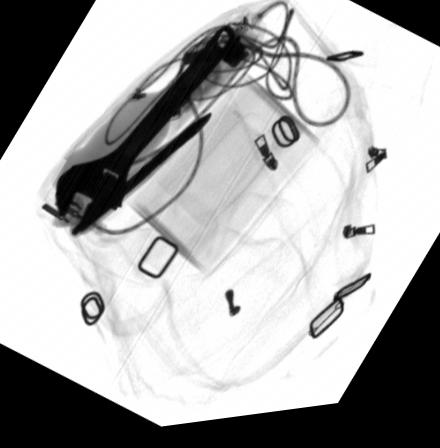Pliers: (71, 116, 215, 237)
Wrench: (54, 30, 235, 239)
